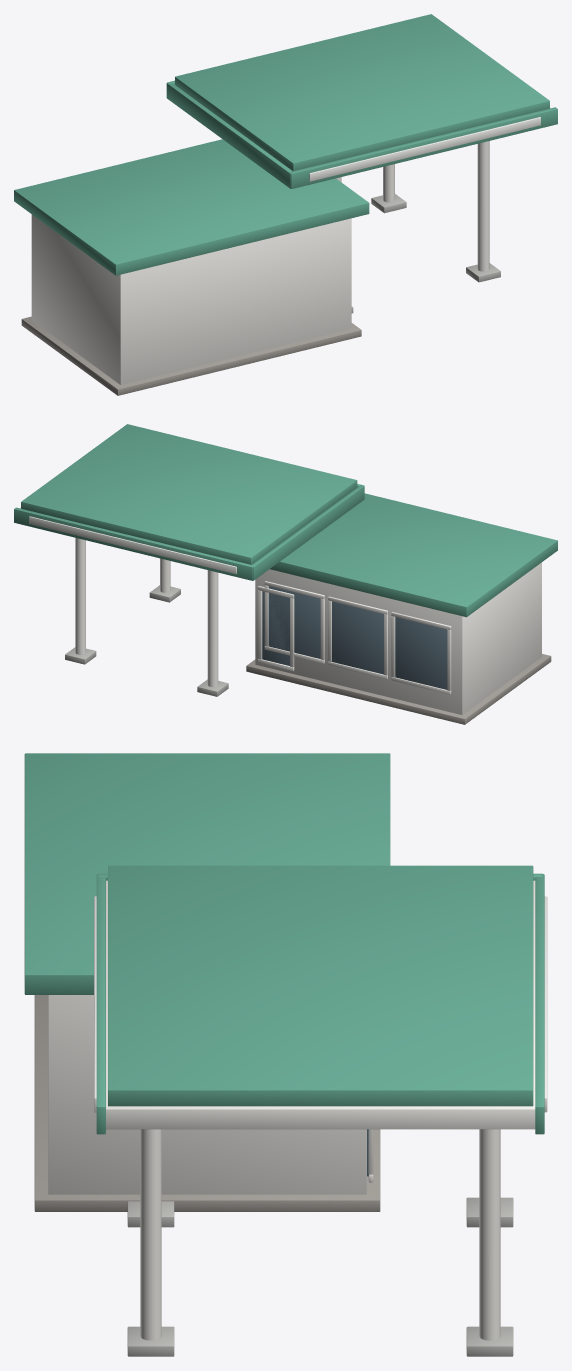
The model's file is th43_tankstelle.glb.
3 renders of one model, top to bottom at view 1: azimuth 30°, elevation 25°; view 2: azimuth 150°, elevation 25°; view 3: azimuth 270°, elevation 25°, orthographic. The views are drawn at different scales.
Visible parts, largest first — view 1: Cube, Cube.029, Cube.002, Cube.001, Cube.030, Cube.034, Cube.031, Cylinder.002; view 2: Cube.029, Cube.002, Cube, Cube.004, Cube.001, Cube.009, Cube.014, Cube.032, Cube.034, Cube.033, Cylinder.001, Cube.019 (+1 smaller); view 3: Cube.029, Cube.002, Cube, Cube.028, Cube.001, Cylinder.003, Cylinder.002, Cube.030, Cube.032, Cube.027, Cube.026, Cube.033 (+2 smaller).
Boxes of the visible parts, bbox=[...] form: Cube: bbox=[31, 214, 351, 384]; Cube.029: bbox=[175, 14, 549, 170]; Cube.002: bbox=[14, 139, 369, 275]; Cube.001: bbox=[21, 316, 361, 395]; Cube.030: bbox=[290, 107, 557, 188]; Cube.034: bbox=[166, 83, 292, 188]; Cube.031: bbox=[309, 117, 540, 181]; Cylinder.002: bbox=[477, 141, 489, 271]; Cube.029: bbox=[21, 424, 357, 564]; Cube.002: bbox=[270, 493, 557, 617]; Cube: bbox=[255, 562, 541, 715]; Cube.004: bbox=[395, 617, 447, 689]; Cube.001: bbox=[246, 654, 551, 724]; Cube.009: bbox=[332, 601, 383, 674]; Cube.014: bbox=[268, 586, 320, 658]; Cube.032: bbox=[14, 507, 253, 580]; Cube.034: bbox=[252, 485, 364, 580]; Cube.033: bbox=[29, 516, 236, 573]; Cylinder.001: bbox=[207, 570, 218, 687]; Cube.019: bbox=[262, 591, 289, 665]; Cube.029: bbox=[108, 865, 533, 1106]; Cube.002: bbox=[24, 753, 390, 994]; Cube: bbox=[48, 995, 366, 1194]; Cube.028: bbox=[106, 880, 535, 1129]; Cube.001: bbox=[34, 995, 380, 1211]; Cylinder.003: bbox=[479, 1129, 500, 1340]; Cylinder.002: bbox=[140, 1129, 161, 1340]; Cube.030: bbox=[96, 874, 105, 1134]; Cube.032: bbox=[535, 874, 544, 1134]; Cube.027: bbox=[466, 1326, 513, 1356]; Cube.026: bbox=[127, 1326, 174, 1356]; Cube.033: bbox=[544, 896, 547, 1112].
Size of the model in its own units: 14.4 by 5.06 by 7.86.
